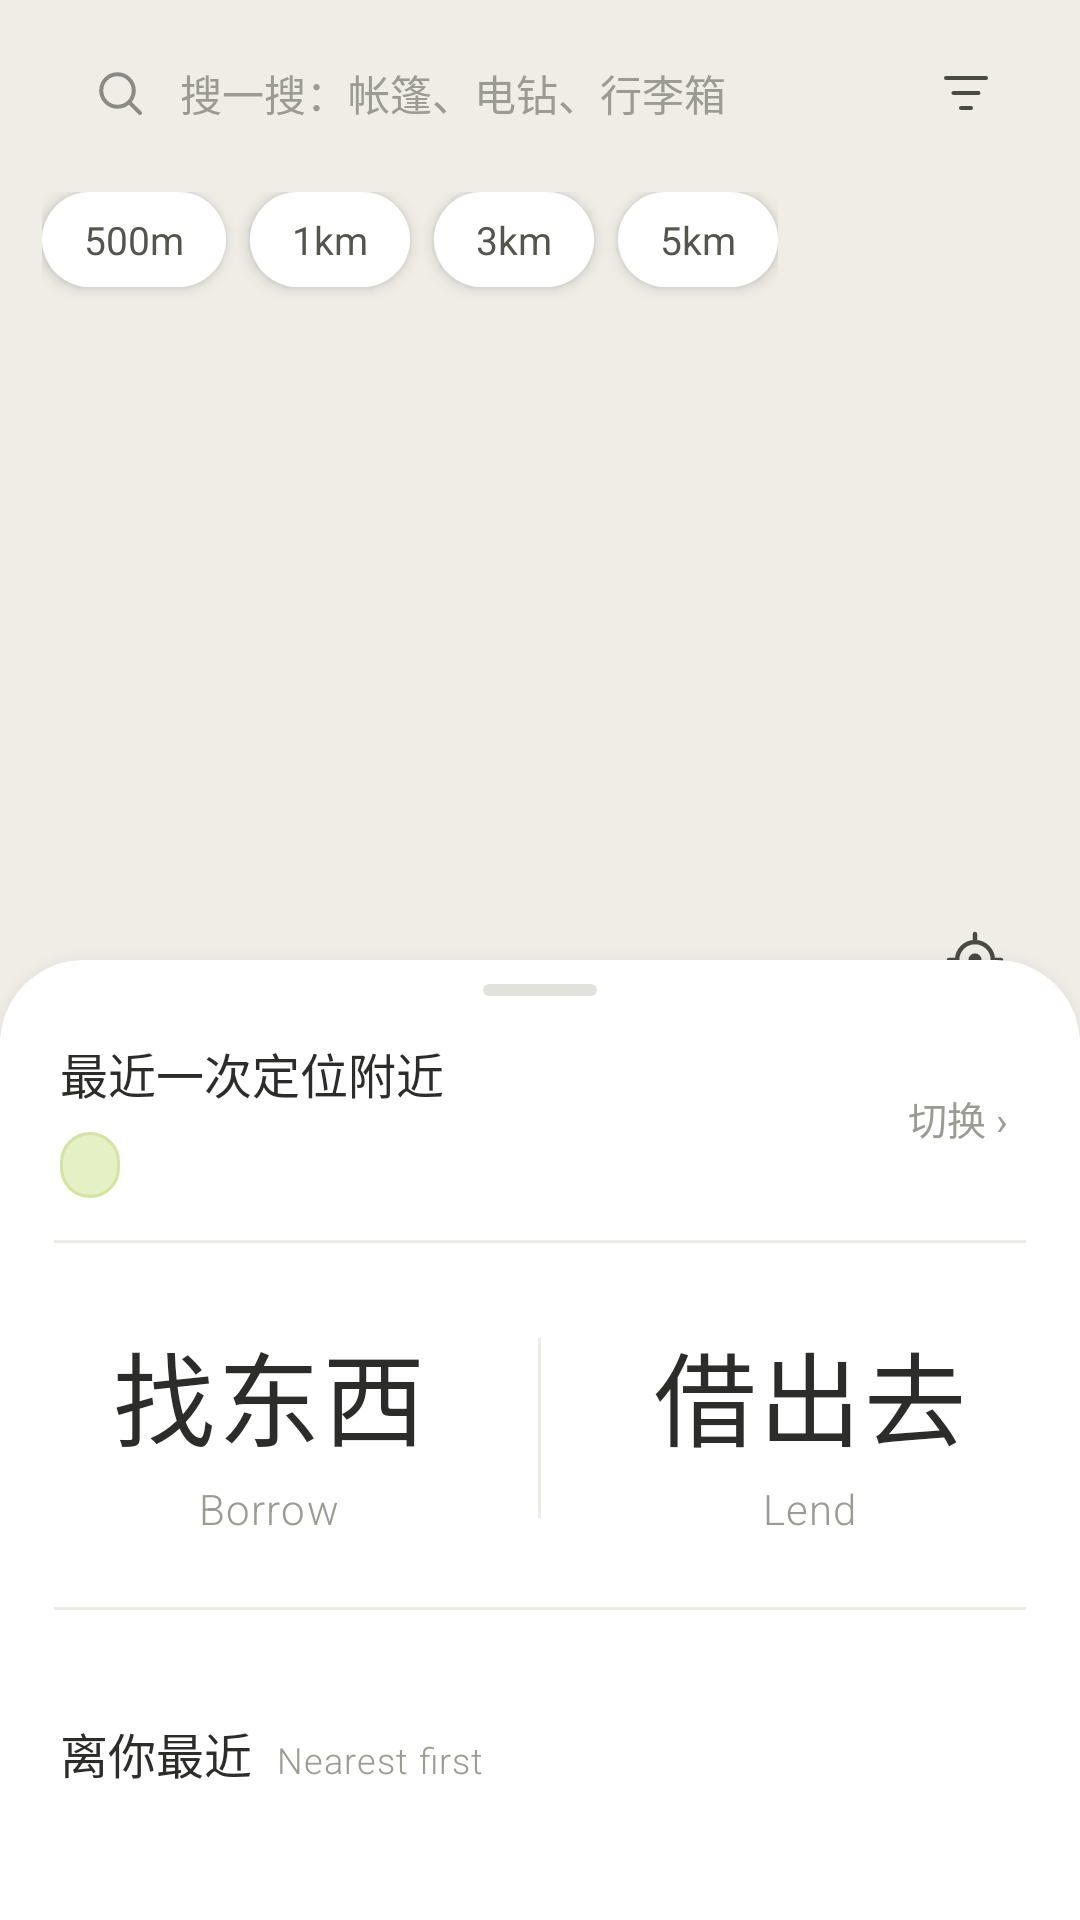

Icons on this 1080 x 1920 Android screen, each with its box as (x1, y1, x2, y2):
search: (99, 72, 142, 115)
筛选: (944, 76, 988, 110)
